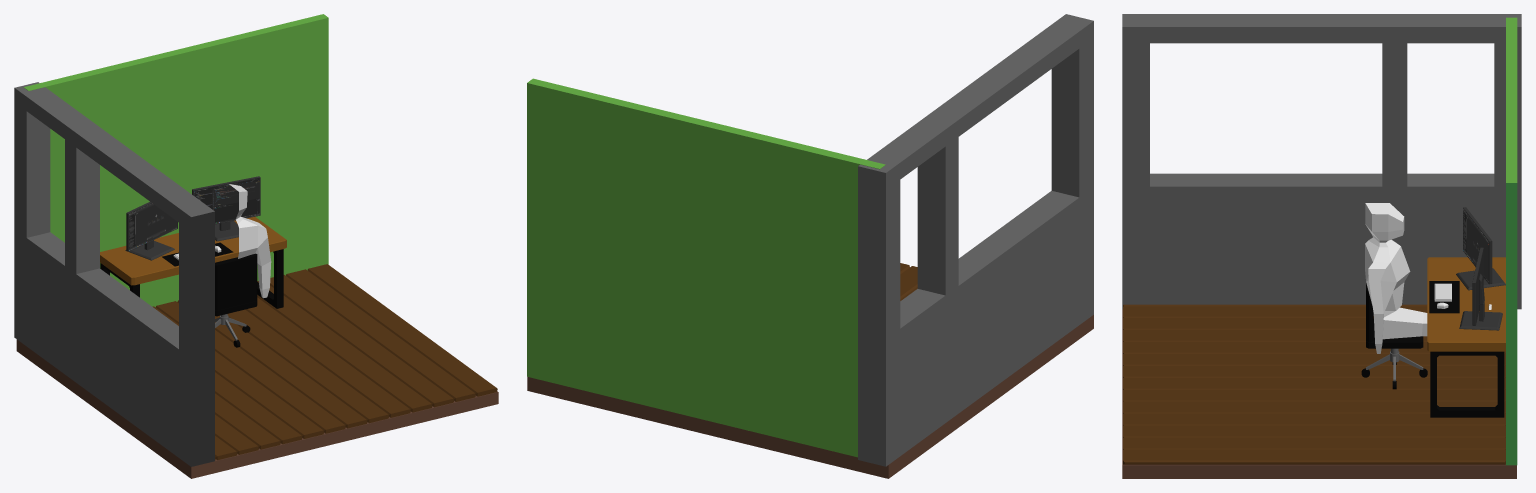
Rendered from room.glb.
The picture shows the model from 3 angles, left to right: view 1: azimuth 30°, elevation 25°; view 2: azimuth 150°, elevation 25°; view 3: azimuth 270°, elevation 25°; orthographic projection. The views are drawn at different scales.
Visible parts, largest first — view 1: Cube.011, Cube.012, Cube.014, Cube.010, Table, Cube.003, Cube.001, Cube.009, Cube.013, Cube; view 2: Cube.012, Cube.011, Cube.010; view 3: Cube.011, Cube.014, Cube.010, Cube.013, Cube.012, Table, Cube, Cube.009, Cube.003, Cube.001, Plane.
Boxes of the visible parts, x1,y1,x2,y2 form: Cube.011: [14, 82, 214, 466]; Cube.012: [23, 14, 328, 307]; Cube.014: [152, 264, 497, 460]; Cube.010: [16, 339, 498, 478]; Table: [100, 217, 286, 285]; Cube.003: [192, 176, 260, 241]; Cube.001: [215, 253, 257, 316]; Cube.009: [125, 202, 177, 260]; Cube.013: [229, 184, 271, 298]; Cube: [257, 249, 283, 308]; Cube.012: [527, 78, 885, 457]; Cube.011: [858, 14, 1093, 466]; Cube.010: [527, 315, 1093, 478]; Cube.011: [1122, 14, 1521, 309]; Cube.014: [1123, 304, 1505, 464]; Cube.010: [1122, 309, 1516, 478]; Cube.013: [1365, 203, 1491, 353]; Cube.012: [1506, 17, 1517, 465]; Table: [1427, 257, 1505, 351]; Cube: [1430, 351, 1504, 417]; Cube.009: [1456, 207, 1505, 290]; Cube.003: [1459, 247, 1502, 330]; Cube.001: [1366, 282, 1423, 348]; Plane: [1429, 281, 1459, 313].
Bounding box in the file's own units: 2.44 × 1.99 × 2.43.
3 materials, 2 textured.
